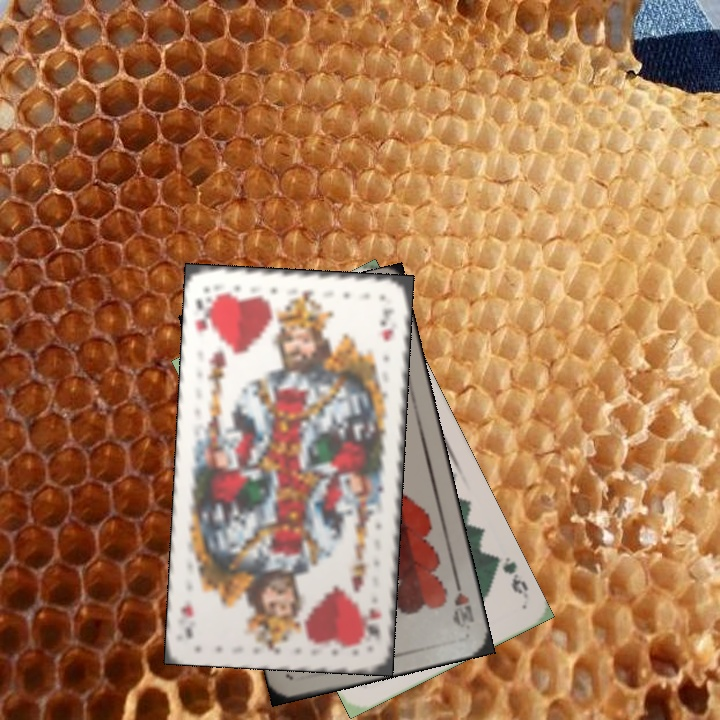G9: (489, 551, 531, 597)
H10: (449, 573, 477, 632)
HK: (191, 290, 218, 336), (362, 603, 384, 642)
